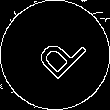P_SW: (24, 24, 86, 86)
